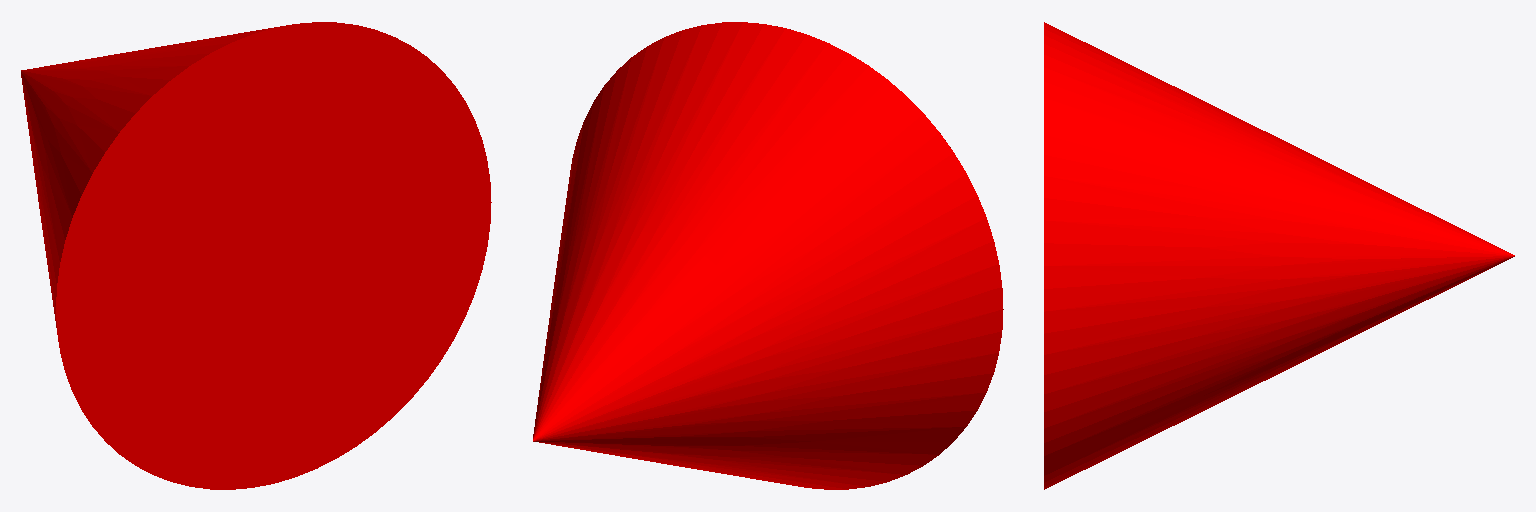
The robot description file, URDF, robot "cone":
<?xml version="1.0" ?>
<robot name="cone">
  <link name="baseLink">
  	<contact>
      <lateral_friction value="1.0"/>
      <rolling_friction value="0.03"/>
      <spinning_friction value="0.03"/>
    </contact>

    <inertial>
      <origin rpy="0 0 0" xyz="0 0 0"/>
       <mass value="1.0"/>
       <inertia ixx="1" ixy="0" ixz="0" iyy="1" iyz="0" izz="1"/>
    </inertial>
    <visual>
      <origin rpy="0 0 0" xyz="0 0 0"/>
      <geometry>
				<mesh filename="wall_texture/cone_blue.obj" scale="0.5 0.5 0.5"/>      
      </geometry>
      <material name="red">
        <color rgba="1 0 0 1"/>
        <specular rgb="11 1 1"/>
      </material>
    </visual>
    <collision>
      <origin rpy="0 0 0" xyz="0 0 0"/>
      <geometry>
	 <sphere radius="0.5"/>
      </geometry>
    </collision>
  </link>
</robot>

--- Render facts (derived) ---
Views: 3 orthographic renders of the robot side by side, from view 1: azimuth 30°, elevation 25°; view 2: azimuth 150°, elevation 25°; view 3: azimuth 270°, elevation 25°.
Model cone with 1 links and 0 joints (none), rooted at baseLink, posed every joint at zero.
Links seen in each view (by area): view 1: baseLink; view 2: baseLink; view 3: baseLink.
Boxes of the visible links, left/top/right/bottom form: baseLink: left=21, top=22, right=491, bottom=489; baseLink: left=533, top=22, right=1003, bottom=489; baseLink: left=1044, top=22, right=1514, bottom=489.
Size in the robot's own frame: 0.9937 by 1 by 0.9937 metres.
Meshes: 1 distinct files referenced, 1 mesh visuals loaded (1 OBJ).